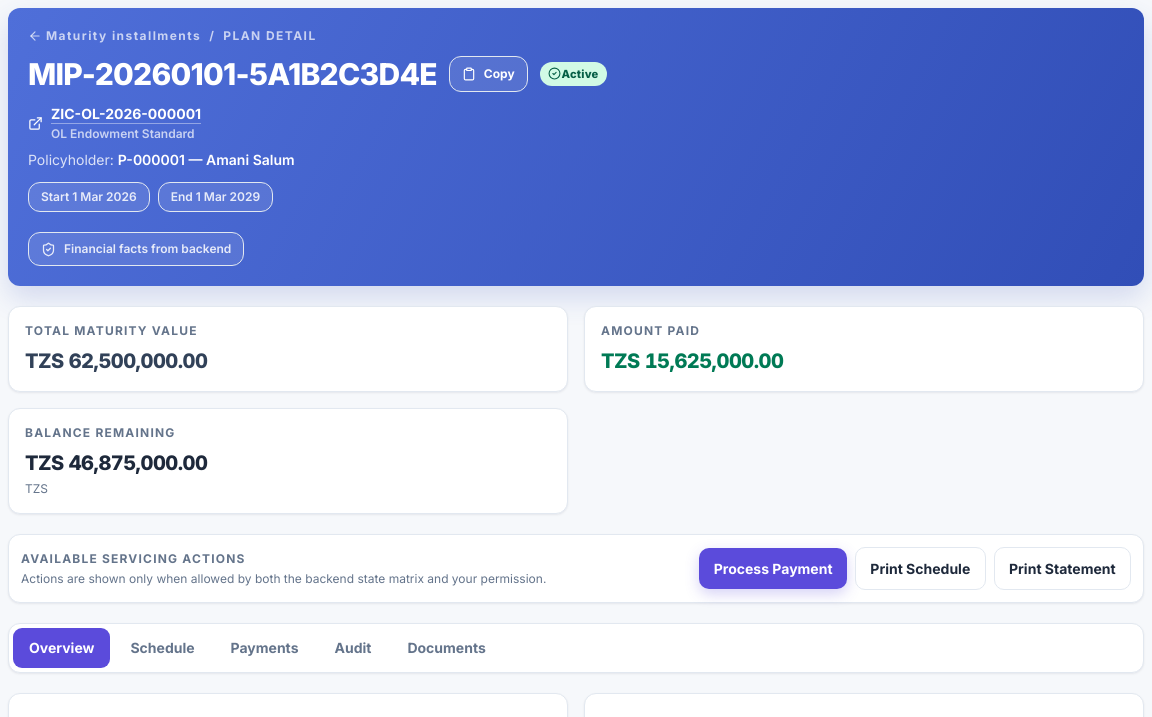
Test: OL Maturity Installments detail (Prompt 3 master-detail) › renders the schedule table with server-side pagination across pages
Click the button "Schedule" at (162, 648), box [114,628,210,668]
(page scrolled)
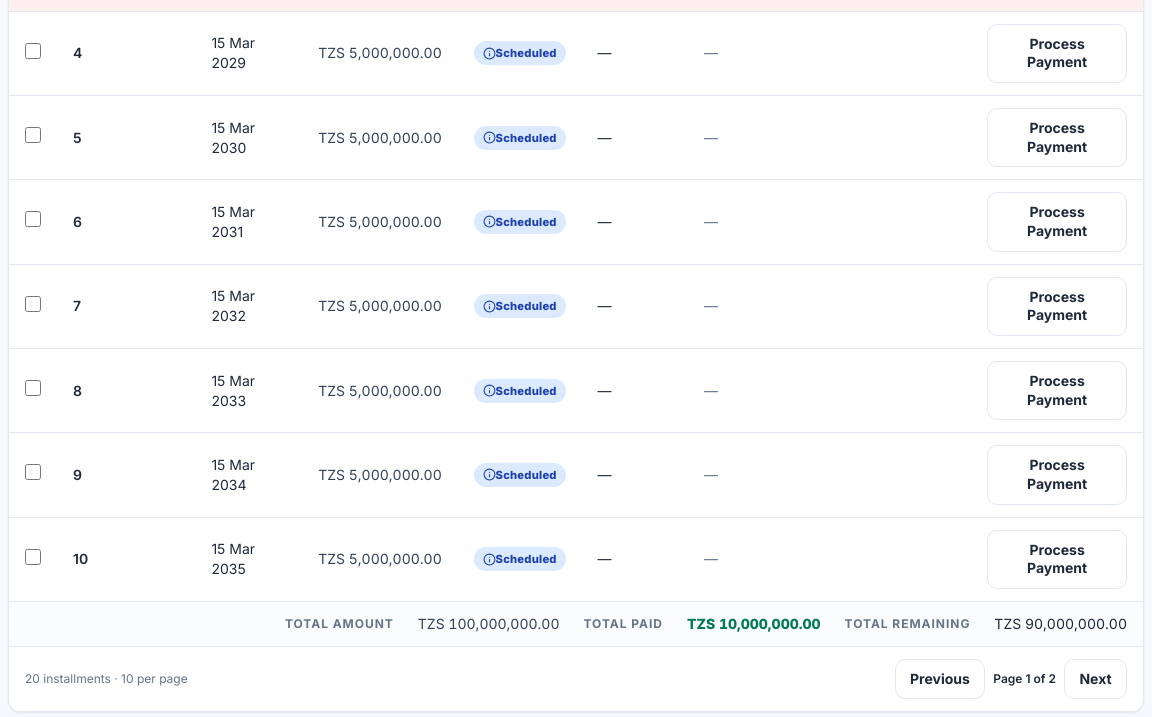
Now the number of rows is 11
Now the text "Page 1 of 2" is shown, box [993,671,1056,687]
Now the text "20 installments · 10 per page" is shown, box [25,671,188,687]
Click the button "Next" at (1096, 679), box [1064,659,1127,700]
(page scrolled)
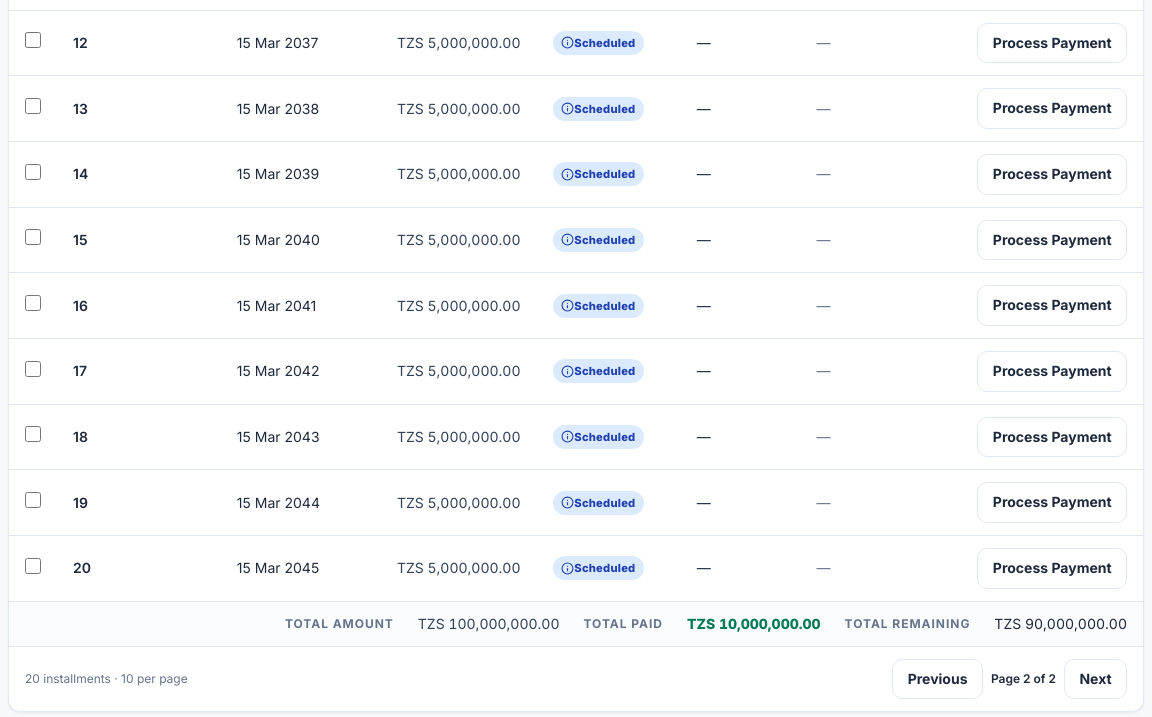
Now the row that starts with "15 Mar 2045" is shown, box [73,559,91,576]
Now the text "Page 2 of 2" is shown, box [991,671,1056,687]
Now the button "Previous" is enabled, box [892,659,983,699]
